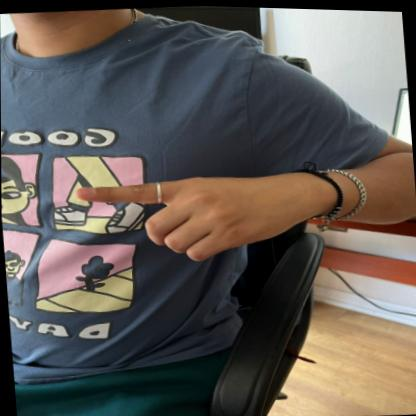S: (72, 154, 324, 275)
